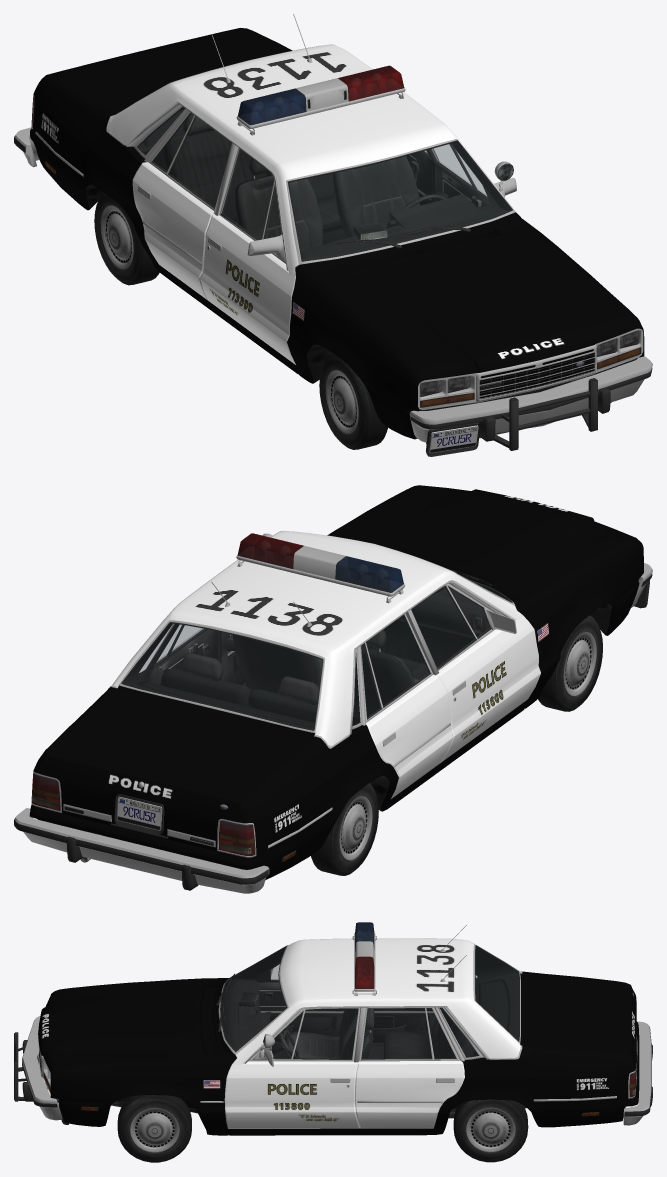
File: policecar.glb
The picture shows the model from 3 angles, top to bottom: view 1: azimuth 30°, elevation 25°; view 2: azimuth 150°, elevation 25°; view 3: azimuth 270°, elevation 25°; orthographic projection. The views are drawn at different scales.
Parts seen in each view (by area): view 1: body_Bodycolor_0, Hood_Bodycolor_0, Wiendshield_UCB_GLASS_CLEAN_0, Seats_GEN4DR_INTERIOR_0, trunk_door_Bodycolor_0, Door_FR_Bodycolor_0, bumper_front_UCB_BOTTOM_0, Door_RR_Bodycolor_0, grill_UCB_BOTTOM_0, Dashboard_GEN4DR_INTERIOR_0, Bodytrim_UCB_BOTTOM_0, Wheel_FR_RIMSTOCK_05_0 (+18 smaller); view 2: body_Bodycolor_0, trunk_door_Bodycolor_0, Hood_Bodycolor_0, Windows_rear_UCB_GLASS_CLEAN_0, Seats_GEN4DR_INTERIOR_0, Door_FR_Bodycolor_0, bumper_rear_UCB_BOTTOM_0, Door_RR_Bodycolor_0, interior_GEN4DR_INTERIOR_0, Bodytrim_UCB_BOTTOM_0, Door_Glass_RR_UCB_GLASS_CLEAN_0, Wheel_FR_RIMSTOCK_05_0 (+14 smaller); view 3: body_Bodycolor_0, Hood_Bodycolor_0, Door_FL_Bodycolor_0, trunk_door_Bodycolor_0, Door_RL_Bodycolor_0, Seats_GEN4DR_INTERIOR_0, Wheel_FL_RIMSTOCK_05_0, Wheel_RL_RIMSTOCK_05_0, Wiendshield_UCB_GLASS_CLEAN_0, Door_Glass_RL_UCB_GLASS_CLEAN_0, interior_GEN4DR_INTERIOR_0, Door_Glass_FL_UCB_GLASS_CLEAN_0 (+12 smaller).
Boxes of the visible parts, x1,y1,x2,y2 form: body_Bodycolor_0: [30, 28, 644, 439]; Hood_Bodycolor_0: [320, 230, 637, 379]; Wiendshield_UCB_GLASS_CLEAN_0: [289, 142, 510, 260]; Seats_GEN4DR_INTERIOR_0: [162, 113, 419, 250]; trunk_door_Bodycolor_0: [47, 28, 286, 113]; Door_FR_Bodycolor_0: [200, 214, 295, 364]; bumper_front_UCB_BOTTOM_0: [409, 356, 652, 456]; Door_RR_Bodycolor_0: [132, 162, 213, 300]; grill_UCB_BOTTOM_0: [418, 328, 643, 409]; Dashboard_GEN4DR_INTERIOR_0: [301, 194, 507, 260]; Bodytrim_UCB_BOTTOM_0: [35, 46, 515, 270]; Wheel_FR_RIMSTOCK_05_0: [319, 353, 387, 449]; body_Bodycolor_0: [30, 485, 643, 879]; trunk_door_Bodycolor_0: [43, 688, 313, 851]; Hood_Bodycolor_0: [332, 485, 633, 595]; Windows_rear_UCB_GLASS_CLEAN_0: [123, 623, 359, 729]; Seats_GEN4DR_INTERIOR_0: [160, 630, 419, 725]; Door_FR_Bodycolor_0: [436, 615, 540, 763]; bumper_rear_UCB_BOTTOM_0: [14, 808, 269, 893]; Door_RR_Bodycolor_0: [366, 674, 453, 798]; interior_GEN4DR_INTERIOR_0: [123, 584, 509, 729]; Bodytrim_UCB_BOTTOM_0: [108, 550, 515, 862]; Door_Glass_RR_UCB_GLASS_CLEAN_0: [361, 615, 429, 718]; Wheel_FR_RIMSTOCK_05_0: [538, 615, 602, 711]; body_Bodycolor_0: [50, 938, 639, 1135]; Hood_Bodycolor_0: [38, 979, 206, 1072]; Door_FL_Bodycolor_0: [224, 1061, 359, 1128]; trunk_door_Bodycolor_0: [522, 974, 636, 1066]; Door_RL_Bodycolor_0: [354, 1060, 464, 1128]; Seats_GEN4DR_INTERIOR_0: [286, 1008, 474, 1058]; Wheel_FL_RIMSTOCK_05_0: [117, 1095, 191, 1162]; Wheel_RL_RIMSTOCK_05_0: [453, 1099, 528, 1162]; Wiendshield_UCB_GLASS_CLEAN_0: [221, 947, 286, 1050]; Door_Glass_RL_UCB_GLASS_CLEAN_0: [361, 1008, 455, 1058]; interior_GEN4DR_INTERIOR_0: [221, 946, 518, 1058]; Door_Glass_FL_UCB_GLASS_CLEAN_0: [272, 1009, 357, 1058].
Bounding box in the file's own units: 1.81 × 1.55 × 4.98.
Materials: 8 (8 with a texture image).
